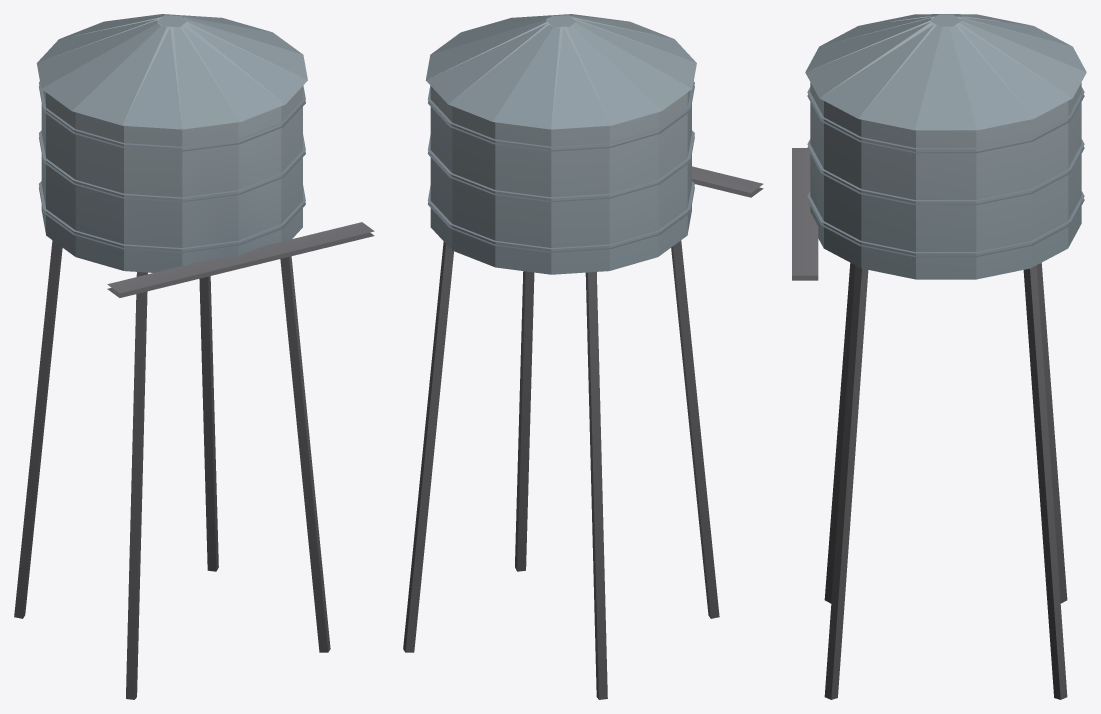
Rendered from sv_watertower.lod.glb.
3 renders of one model, left to right at view 1: azimuth 30°, elevation 25°; view 2: azimuth 150°, elevation 25°; view 3: azimuth 270°, elevation 25°, orthographic. The views are drawn at different scales.
Parts seen in each view (by area): view 1: sv_watertower; view 2: sv_watertower; view 3: sv_watertower.
Part boxes in pixels (x1,y1,x2,y2): sv_watertower: (14, 14, 374, 699); sv_watertower: (403, 14, 763, 699); sv_watertower: (792, 14, 1086, 699).
Size of the model in its own units: 5.8 by 13.31 by 5.65.
